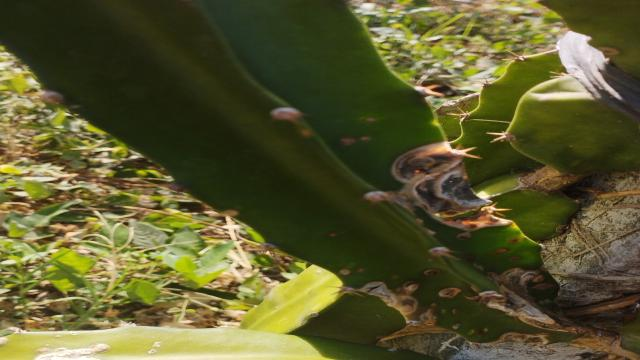stemcanker: (318, 110, 403, 163), (382, 244, 440, 296), (332, 255, 358, 282), (447, 318, 489, 333)
